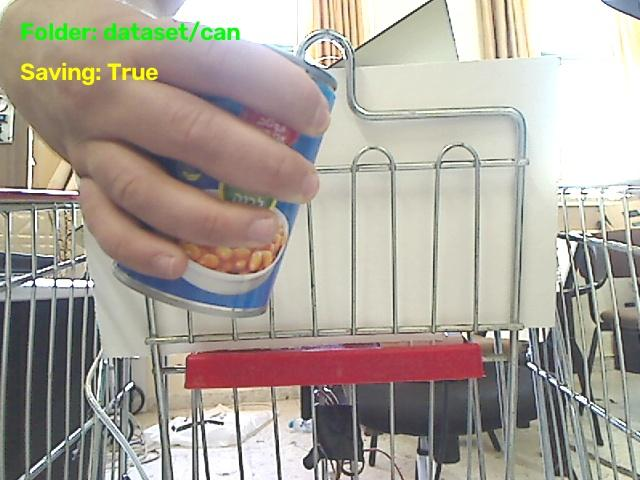can: (114, 158, 298, 316)
